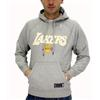abbigliamento_uomo: (16, 8, 89, 95)
